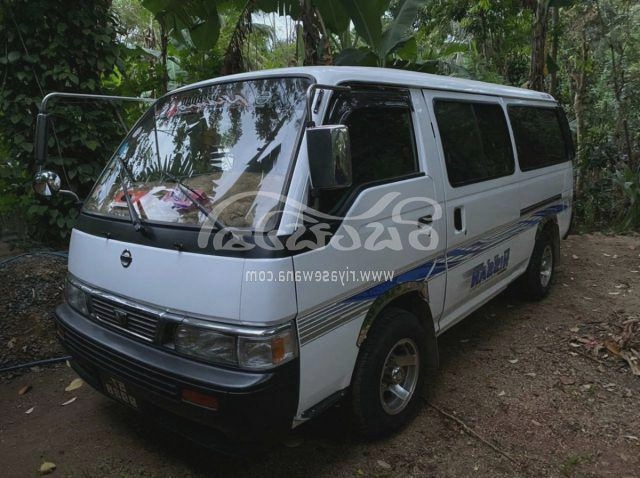van: (33, 56, 588, 443)
